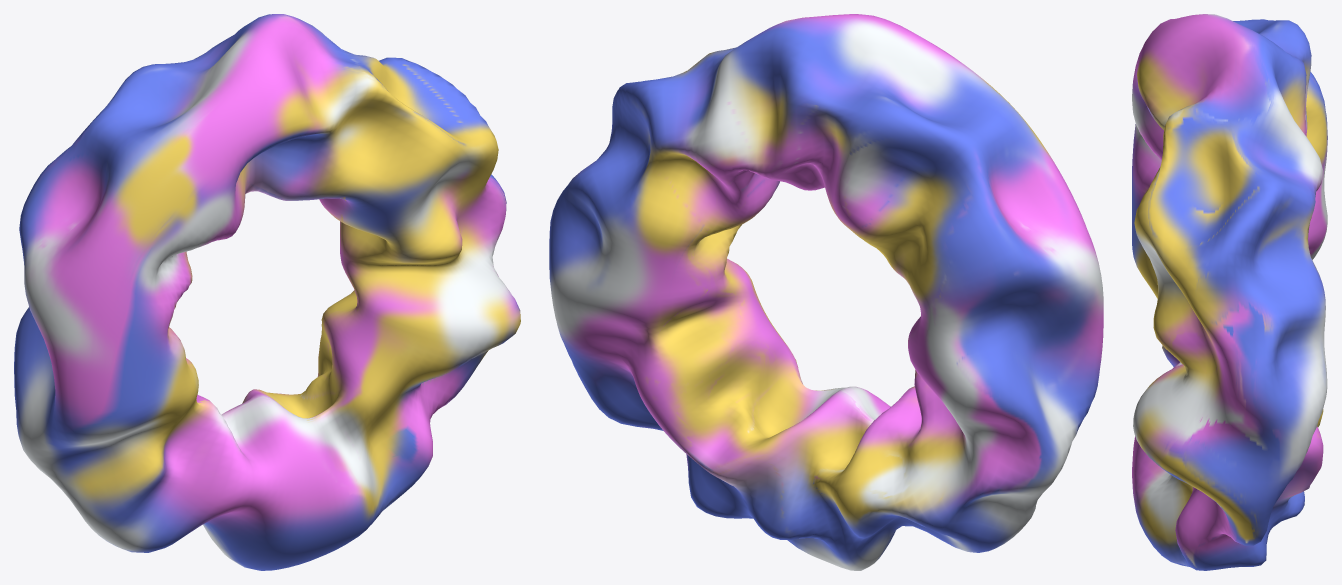
Rendered from donut3.gltf.
3 renders of one model, left to right at view 1: azimuth 30°, elevation 25°; view 2: azimuth 150°, elevation 25°; view 3: azimuth 270°, elevation 25°, orthographic. The views are drawn at different scales.
Parts seen in each view (by area): view 1: Torus; view 2: Torus; view 3: Torus.
Boxes of the visible parts, x1,y1,x2,y2 form: Torus: [14, 14, 520, 570]; Torus: [549, 14, 1103, 570]; Torus: [1132, 14, 1327, 570].
Bounding box in the file's own units: 1.4 × 1.43 × 0.4764.
Materials: 1 (1 with a texture image).
